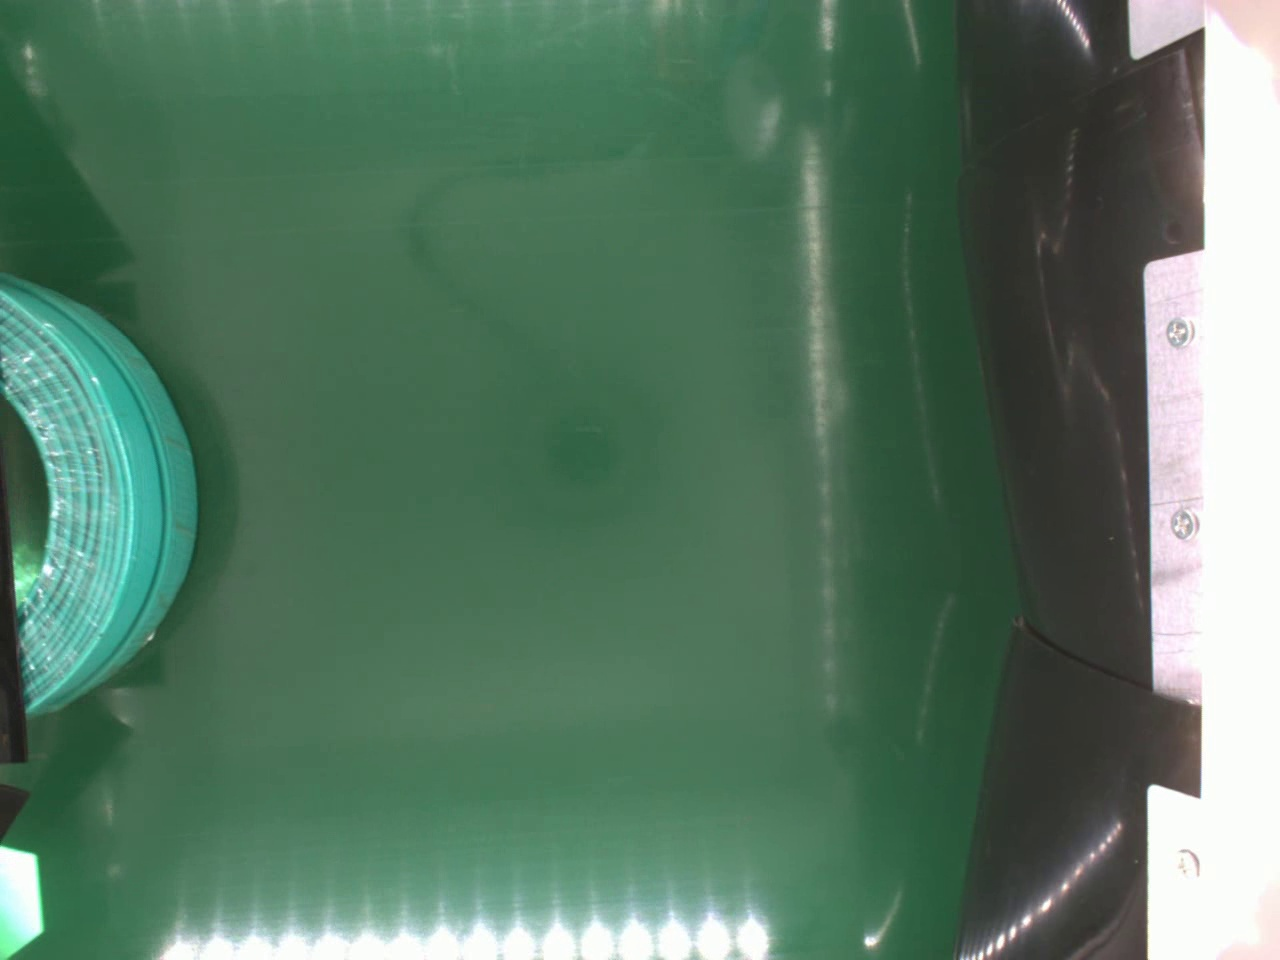green: (0, 269, 202, 724)
